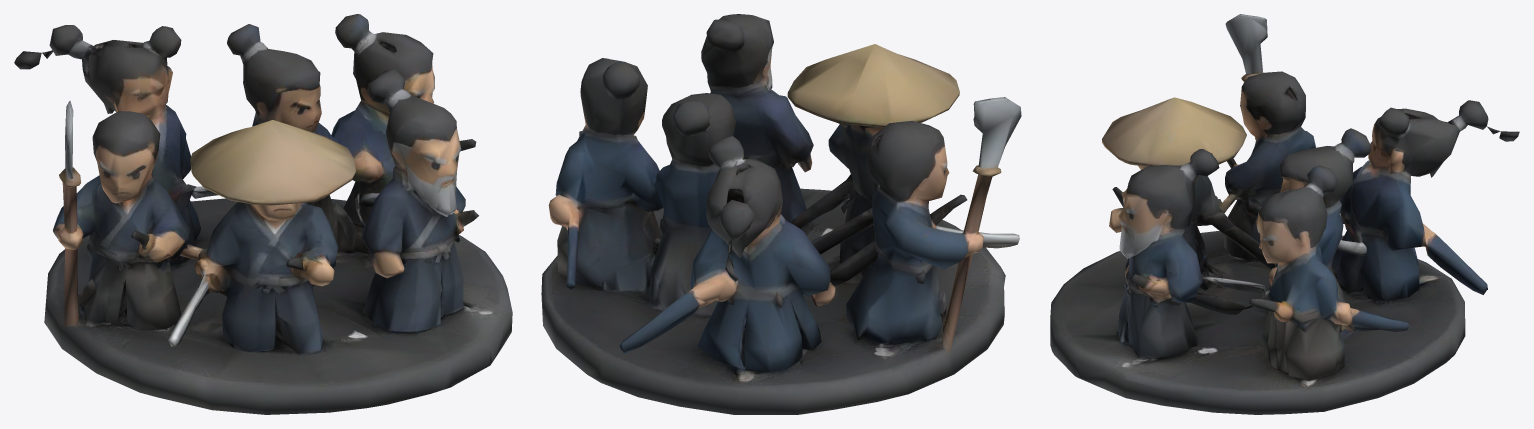
The model's file is crew-samurai.opt.glb.
3 views of the same model, side by side, from view 1: azimuth 30°, elevation 25°; view 2: azimuth 150°, elevation 25°; view 3: azimuth 270°, elevation 25° (orthographic). The views are drawn at different scales.
Size of the model in its own units: 1.82 by 1.07 by 2.
1 material, 1 textured.
